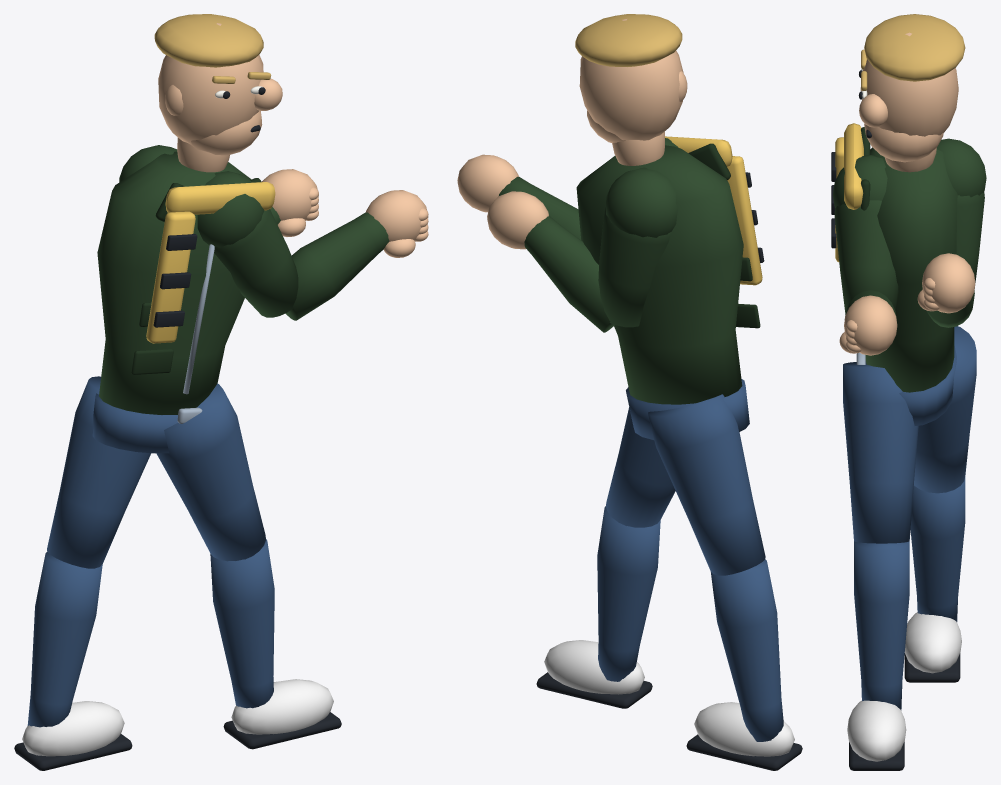
The model's file is kevin.glb.
3 views of the same model, side by side, from view 1: azimuth 30°, elevation 25°; view 2: azimuth 150°, elevation 25°; view 3: azimuth 270°, elevation 25° (orthographic).
Parts seen in each view (by area): view 1: Fitted torso.003, Trouser thigh.006, Trouser thigh.007, Lower leg.007, Lower leg.006, Head.003, Forearm.006, Upper arm.006, Hair crown.003, Boot.006, Boot.007, Tailored waist.003 (+12 smaller); view 2: Fitted torso.003, Trouser thigh.007, Lower leg.007, Lower leg.006, Head.003, Upper arm.007, Trouser thigh.006, Forearm.007, Hair crown.003, Rounded shoulder.007, Boot.006, Boot.007 (+10 smaller); view 3: Fitted torso.003, Trouser thigh.006, Lower leg.006, Lower leg.007, Trouser thigh.007, Hair crown.003, Upper arm.006, Head.003, Boot.006, Boot.007, Closed fist.007, Closed fist.006 (+13 smaller).
Part boxes in pixels (box(x1,y1,x2,y2)): Fitted torso.003: box(97, 151, 251, 414); Trouser thigh.006: box(156, 383, 265, 561); Trouser thigh.007: box(47, 376, 150, 568); Lower leg.007: box(27, 552, 102, 727); Lower leg.006: box(210, 539, 274, 708); Head.003: box(158, 23, 263, 144); Forearm.006: box(285, 212, 389, 320); Upper arm.006: box(214, 209, 298, 317); Hair crown.003: box(154, 14, 263, 67); Boot.006: box(231, 679, 333, 734); Boot.007: box(22, 701, 124, 756); Tailored waist.003: box(92, 393, 177, 453); Fitted torso.003: box(576, 145, 743, 404); Trouser thigh.007: box(648, 394, 765, 575); Lower leg.007: box(711, 559, 783, 741); Lower leg.006: box(597, 506, 660, 681); Head.003: box(579, 19, 683, 140); Upper arm.007: box(598, 207, 671, 327); Trouser thigh.006: box(606, 407, 675, 527); Forearm.007: box(524, 216, 614, 332); Hair crown.003: box(575, 14, 682, 66); Rounded shoulder.007: box(606, 167, 677, 237); Boot.006: box(544, 640, 644, 694); Boot.007: box(694, 702, 794, 756); Fitted torso.003: box(865, 144, 957, 392); Trouser thigh.006: box(843, 362, 918, 543); Lower leg.006: box(854, 541, 909, 710); Lower leg.007: box(910, 477, 965, 621); Trouser thigh.007: box(914, 326, 976, 493); Hair crown.003: box(864, 14, 965, 81); Upper arm.006: box(834, 200, 898, 313); Head.003: box(860, 32, 958, 136); Boot.006: box(847, 700, 906, 761); Boot.007: box(904, 612, 961, 673); Closed fist.007: box(922, 253, 975, 313); Closed fist.006: box(844, 295, 897, 355).
Bounding box in the file's own units: 82.9 × 153 × 30.64.
